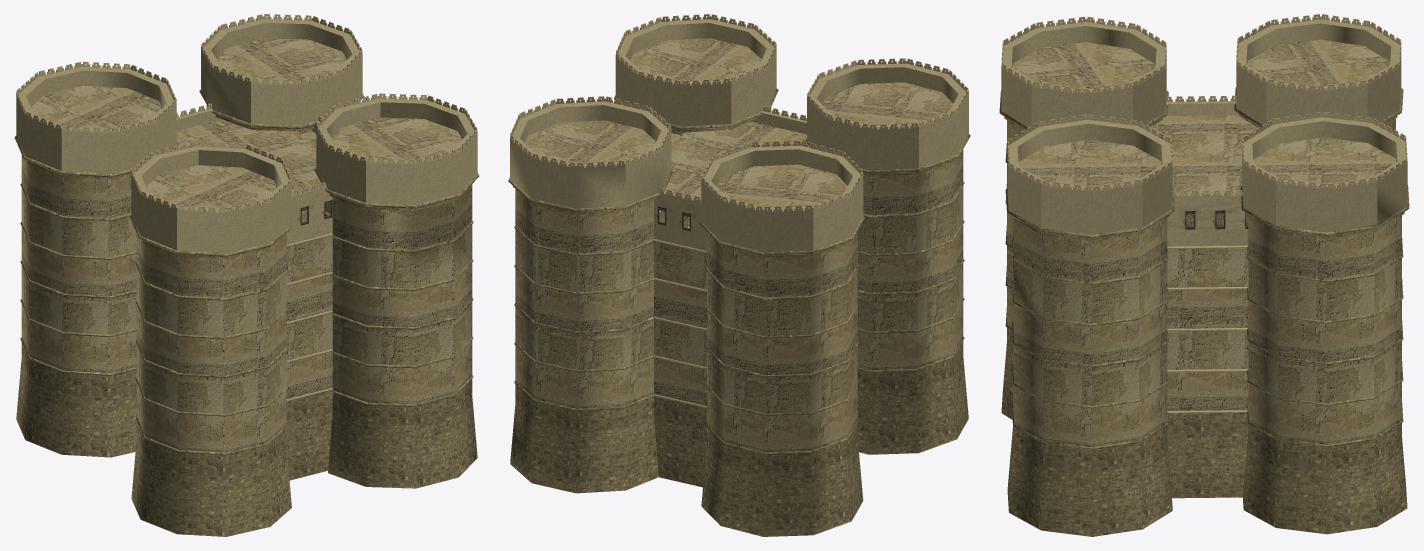
The model's file is Palace.fbx.
3 views of the same model, side by side, from view 1: azimuth 30°, elevation 25°; view 2: azimuth 150°, elevation 25°; view 3: azimuth 270°, elevation 25° (orthographic). The views are drawn at different scales.
Parts seen in each view (by area): view 1: Palace; view 2: Palace; view 3: Palace.
Part boxes in pixels (left/top/right/bottom): Palace: left=14, top=14, right=479, bottom=536; Palace: left=508, top=14, right=970, bottom=536; Palace: left=999, top=14, right=1409, bottom=536.
Size of the model in its own units: 35180 by 32815 by 34843.
